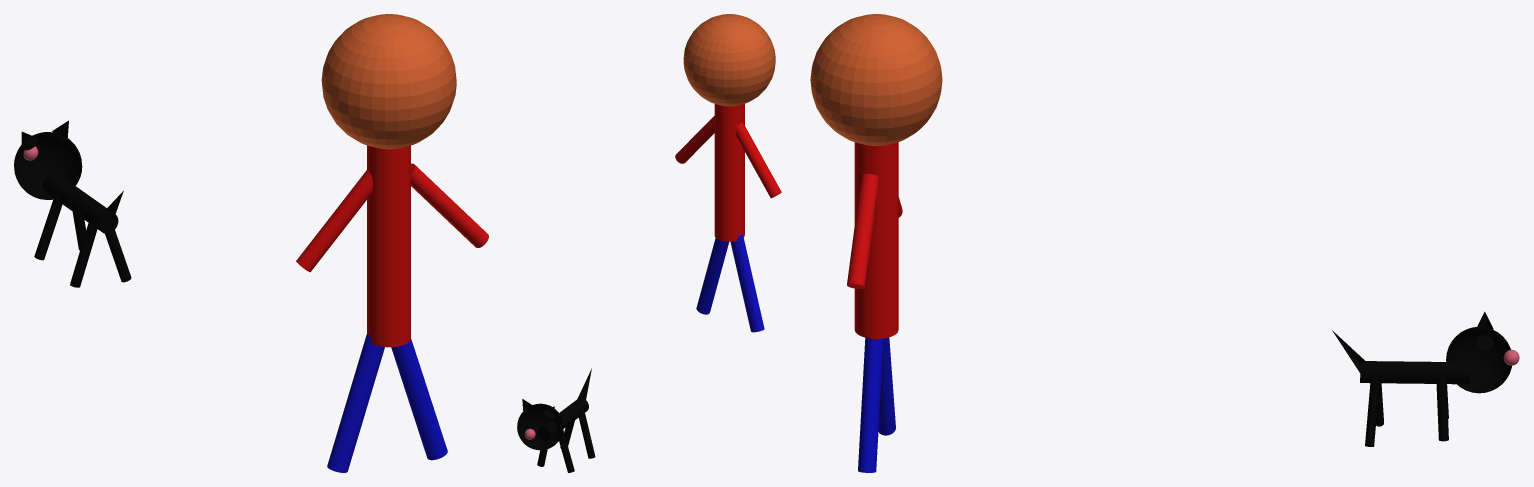
The model's file is person-cat.obj.
3 renders of one model, left to right at view 1: azimuth 30°, elevation 25°; view 2: azimuth 150°, elevation 25°; view 3: azimuth 270°, elevation 25°, orthographic. The views are drawn at different scales.
Visible parts, largest first — view 1: Person.001, CAt.001, PersonArm.001; view 2: Person.001, CAt.001, PersonArm.001; view 3: Person.001, CAt.001, PersonArm.001.
Part boxes in pixels (x1,y1,x2,y2): Person.001: (296, 14, 456, 472); CAt.001: (14, 120, 131, 287); PersonArm.001: (410, 163, 488, 247); Person.001: (683, 14, 781, 332); CAt.001: (517, 368, 595, 472); PersonArm.001: (675, 116, 714, 163); Person.001: (810, 14, 942, 472); CAt.001: (1332, 311, 1519, 446); PersonArm.001: (847, 173, 878, 288).
Size of the model in its own units: 0.19 by 0.4707 by 0.6981.
